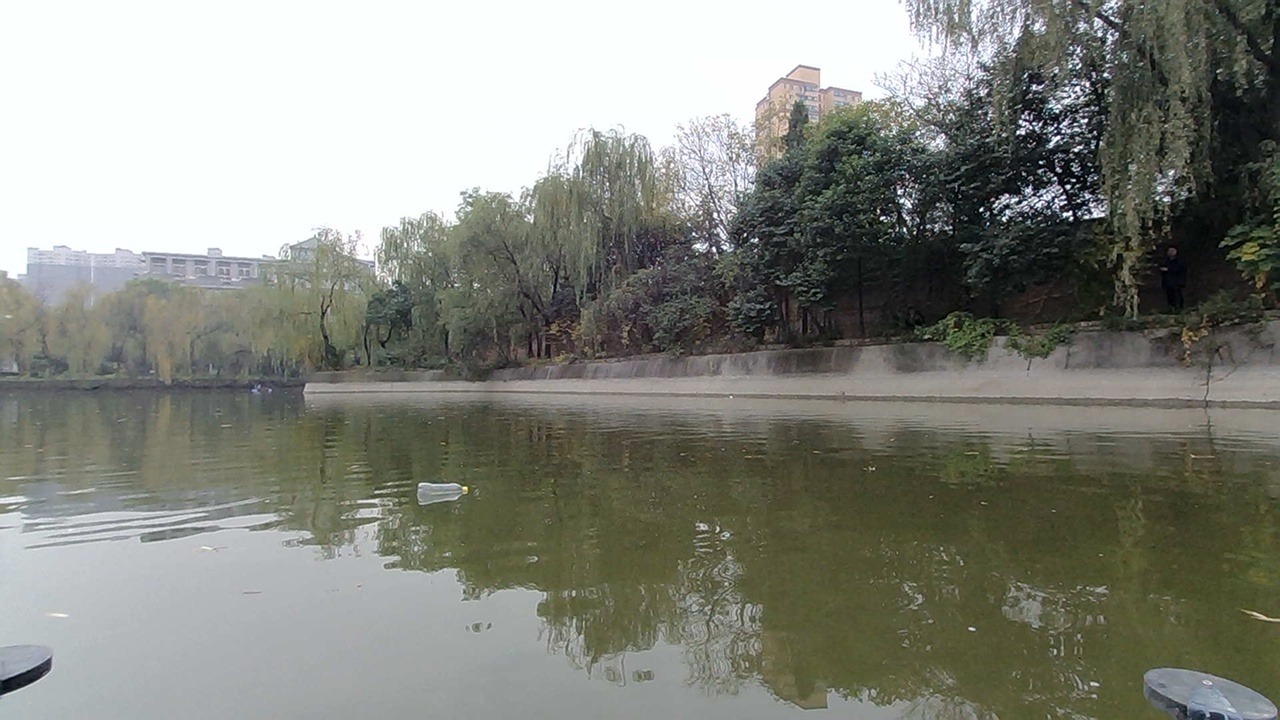bottle: (403, 463, 477, 515)
